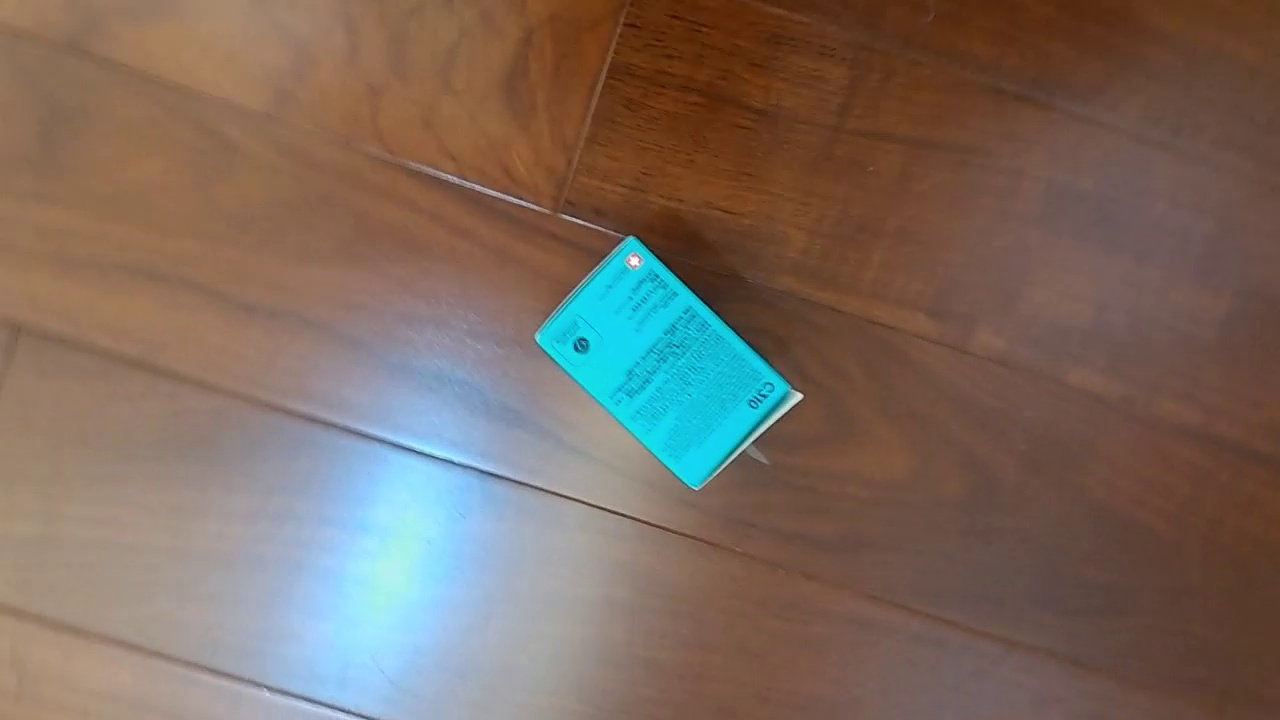webcam: (532, 233, 805, 492)
